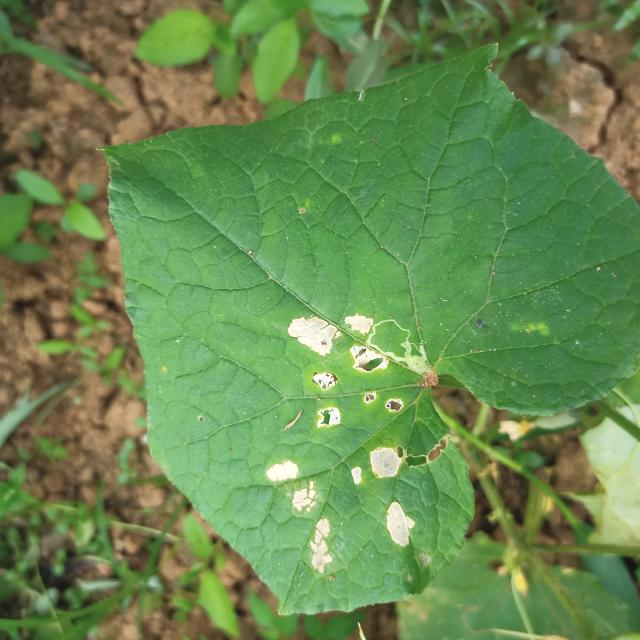disease_cucumber: (266, 308, 416, 573)
